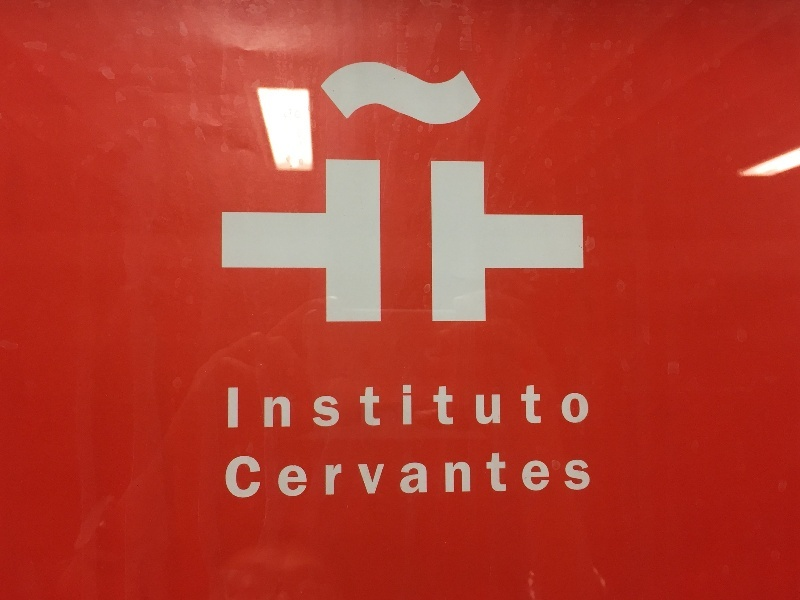text: (225, 453, 240, 500), (241, 453, 256, 500), (257, 453, 272, 500), (273, 453, 288, 500), (289, 453, 304, 500), (305, 453, 320, 500), (321, 453, 336, 500), (337, 453, 352, 500), (353, 453, 368, 500), (369, 453, 384, 500), (385, 453, 400, 500), (401, 453, 416, 500), (417, 453, 432, 500), (433, 453, 448, 500), (449, 453, 464, 500), (465, 453, 480, 500), (481, 453, 496, 500), (497, 453, 512, 500), (513, 453, 528, 500), (529, 453, 544, 500), (545, 453, 560, 500), (561, 453, 576, 500), (241, 384, 256, 429), (257, 384, 272, 429), (273, 384, 288, 429), (289, 384, 304, 429), (305, 384, 320, 429), (321, 384, 336, 429), (337, 384, 352, 429), (353, 384, 368, 429), (369, 384, 384, 429), (385, 384, 400, 429), (401, 384, 416, 429), (417, 384, 432, 429), (433, 384, 448, 429), (449, 384, 464, 429), (465, 384, 480, 429), (481, 384, 496, 429), (497, 384, 512, 429), (513, 384, 528, 429), (529, 384, 544, 429), (545, 384, 560, 429), (561, 384, 576, 429), (577, 453, 591, 500), (228, 384, 240, 429), (577, 384, 589, 429)
